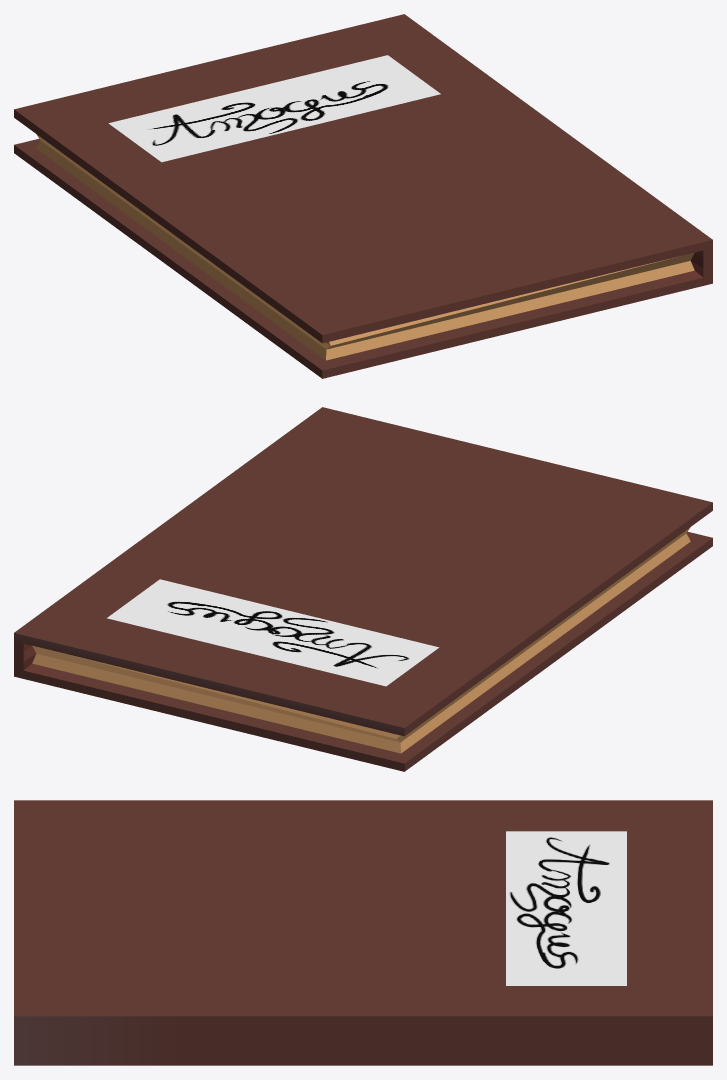
The model's file is book.fbx.
3 renders of one model, top to bottom at view 1: azimuth 30°, elevation 25°; view 2: azimuth 150°, elevation 25°; view 3: azimuth 270°, elevation 25°, orthographic. The views are drawn at different scales.
Parts seen in each view (by area): view 1: book; view 2: book; view 3: book.
Part boxes in pixels (<box>): book: <box>14,14,712,378</box>; book: <box>14,407,712,771</box>; book: <box>14,800,712,1065</box>.
Bounding box in the file's own units: 17.23 × 1.85 × 23.57.
Materials: 1 (1 with a texture image).
